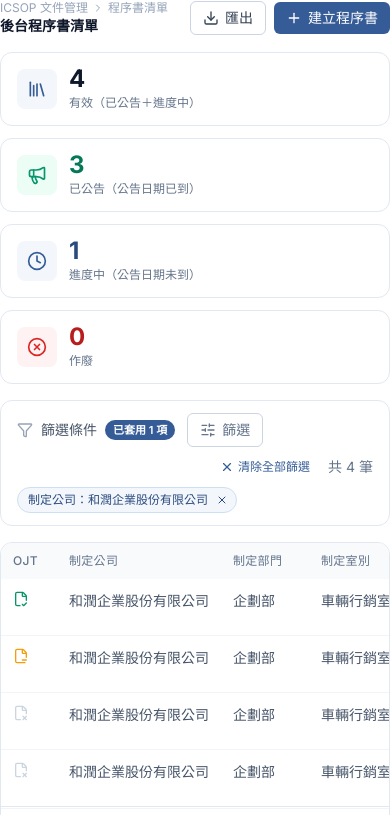
Test: F017 AC-D10：篩選區之逐字文案與選擇器契約 › TS-F017-D10-009 行動底部 sheet 之標題 `篩選條件`、主要動作 `套用`、關閉鈕 aria-label `關閉篩選`
The width and height of the screenshot is (390, 815).
Click the button "篩選". click: coordinates (225, 430)
box: [187, 413, 263, 447]
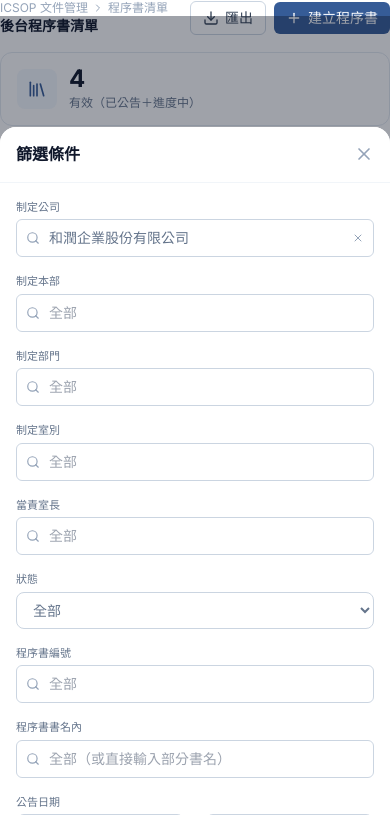
Expected: the heading "篩選條件" is shown, [16, 142, 80, 166]
Expected: the button named "關閉篩選" is shown, [354, 144, 374, 164]
